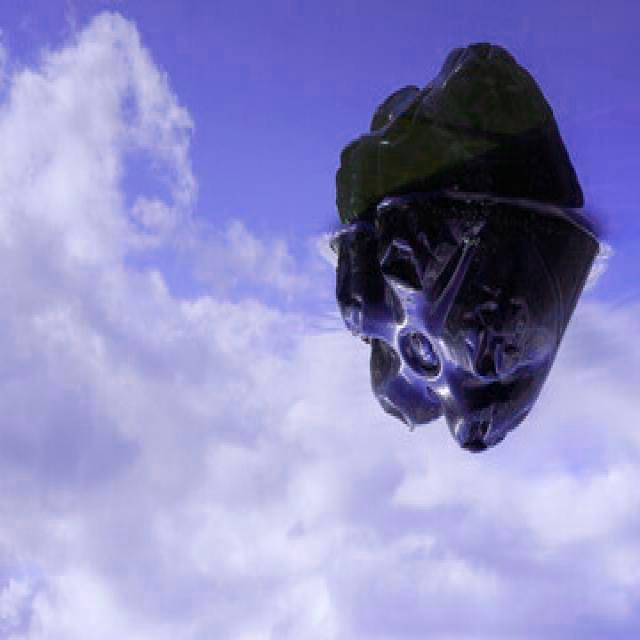Plastic: (338, 210, 604, 456)
